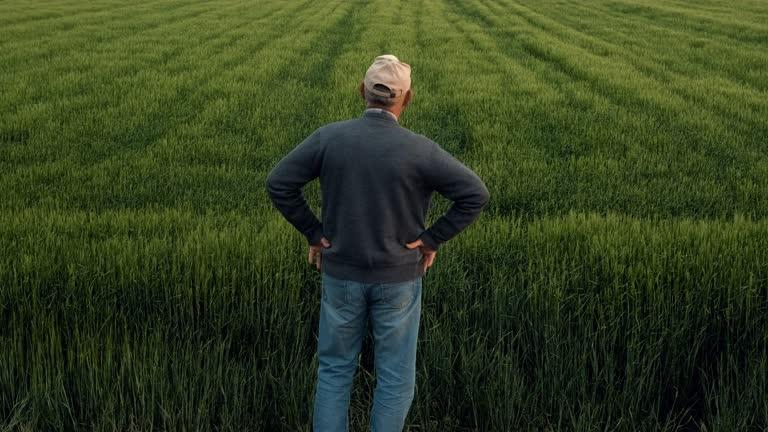Human: (255, 33, 471, 432)
